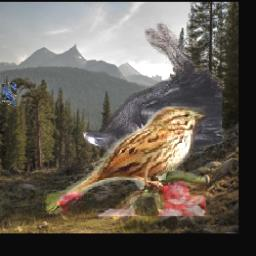Crow: (83, 22, 223, 154), (0, 82, 17, 106)
Sparrow: (42, 104, 206, 217)
